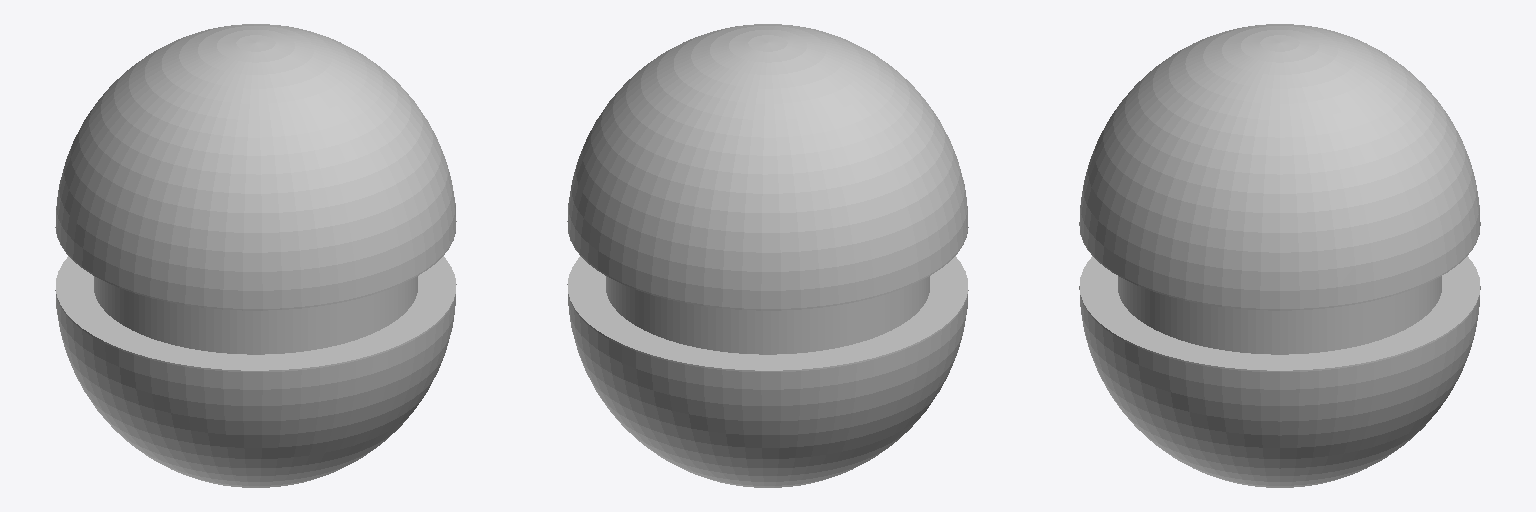
The model's file is droid_anim_000015.obj.
3 renders of one model, left to right at view 1: azimuth 30°, elevation 25°; view 2: azimuth 150°, elevation 25°; view 3: azimuth 270°, elevation 25°, orthographic.
Visible parts, largest first — view 1: Sphere.004, Sphere.005, Cylinder.002; view 2: Sphere.004, Sphere.005, Cylinder.002; view 3: Sphere.004, Sphere.005, Cylinder.002.
Boxes of the visible parts, box(x1,y1,x2,y2) form: Sphere.004: box(55, 24, 456, 310); Sphere.005: box(55, 256, 456, 487); Cylinder.002: box(94, 276, 417, 354); Sphere.004: box(567, 24, 968, 310); Sphere.005: box(567, 256, 968, 487); Cylinder.002: box(606, 276, 929, 354); Sphere.004: box(1079, 24, 1480, 310); Sphere.005: box(1079, 256, 1480, 487); Cylinder.002: box(1118, 276, 1441, 354).
Bounding box in the file's own units: 2 × 2.35 × 2.